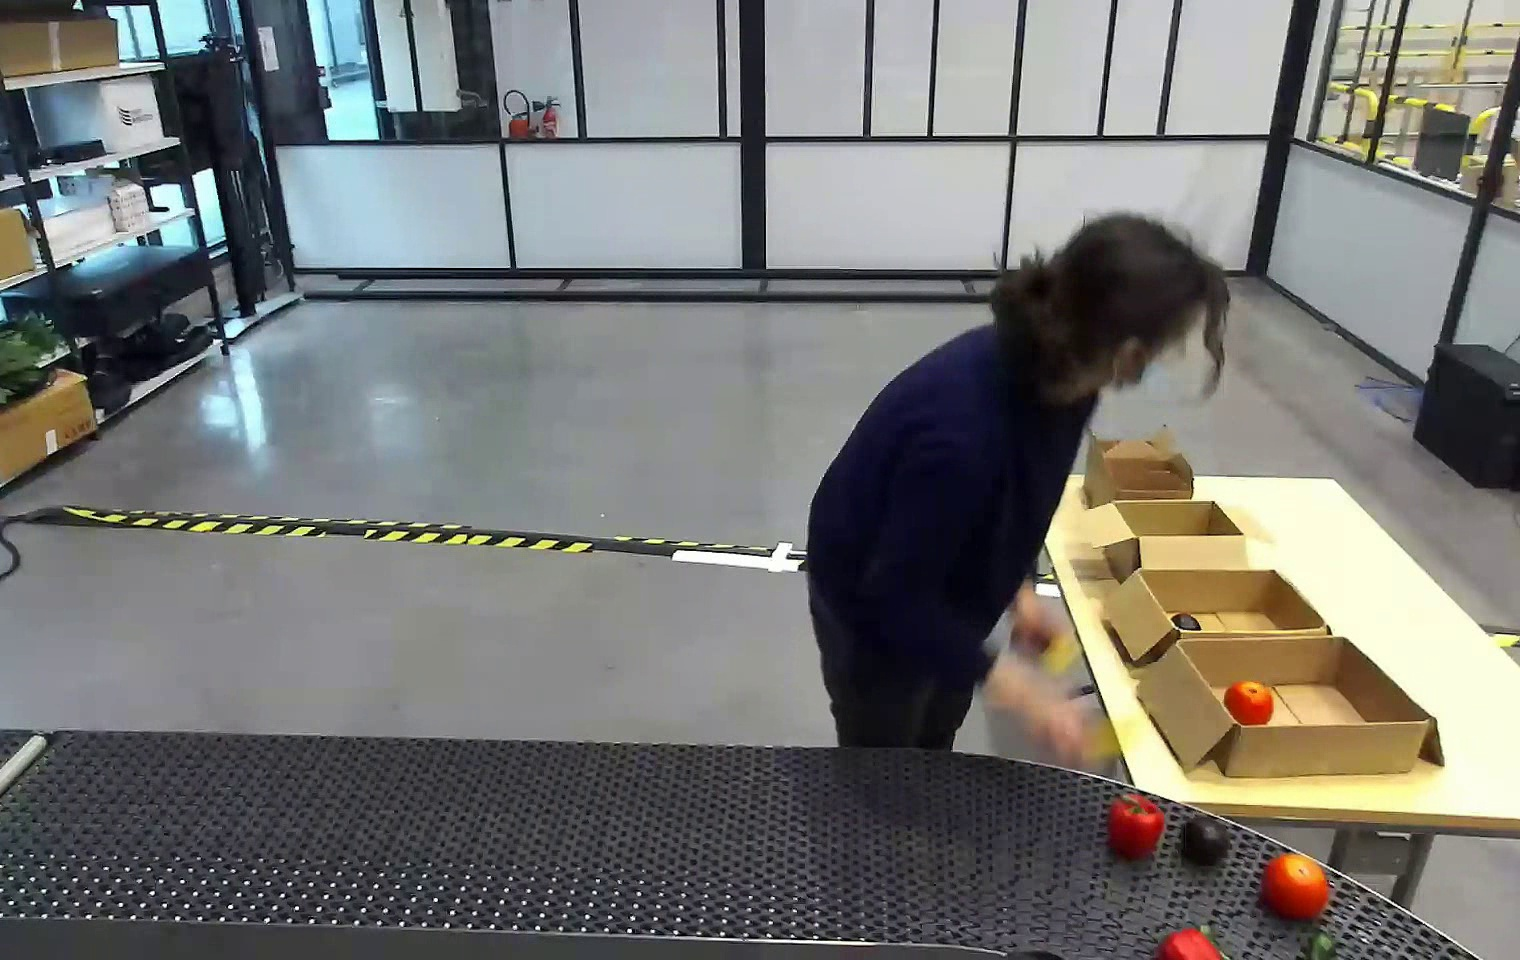Main droite: (982, 835, 1073, 960)
